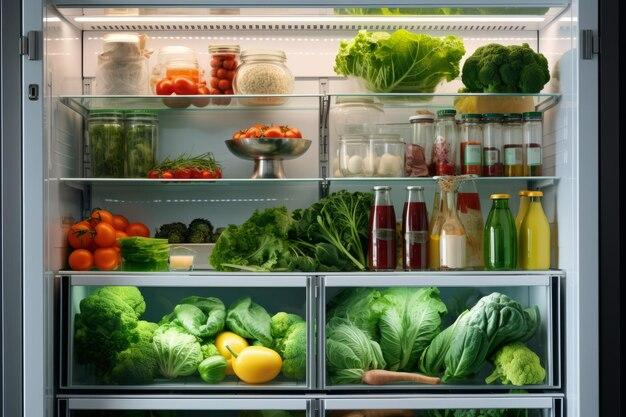brocolli: (67, 279, 176, 397)
cabbage: (325, 287, 448, 388)
tomato: (65, 201, 144, 282), (159, 69, 210, 112)
